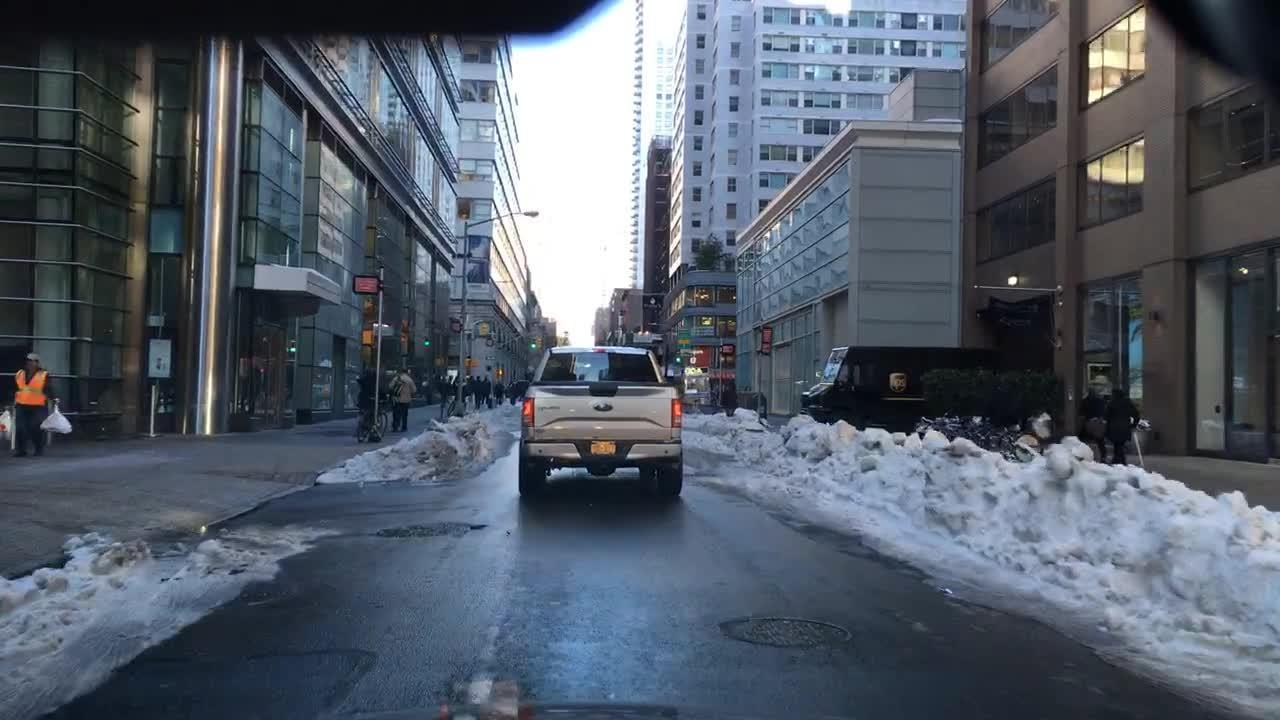ford: (594, 404, 614, 412)
